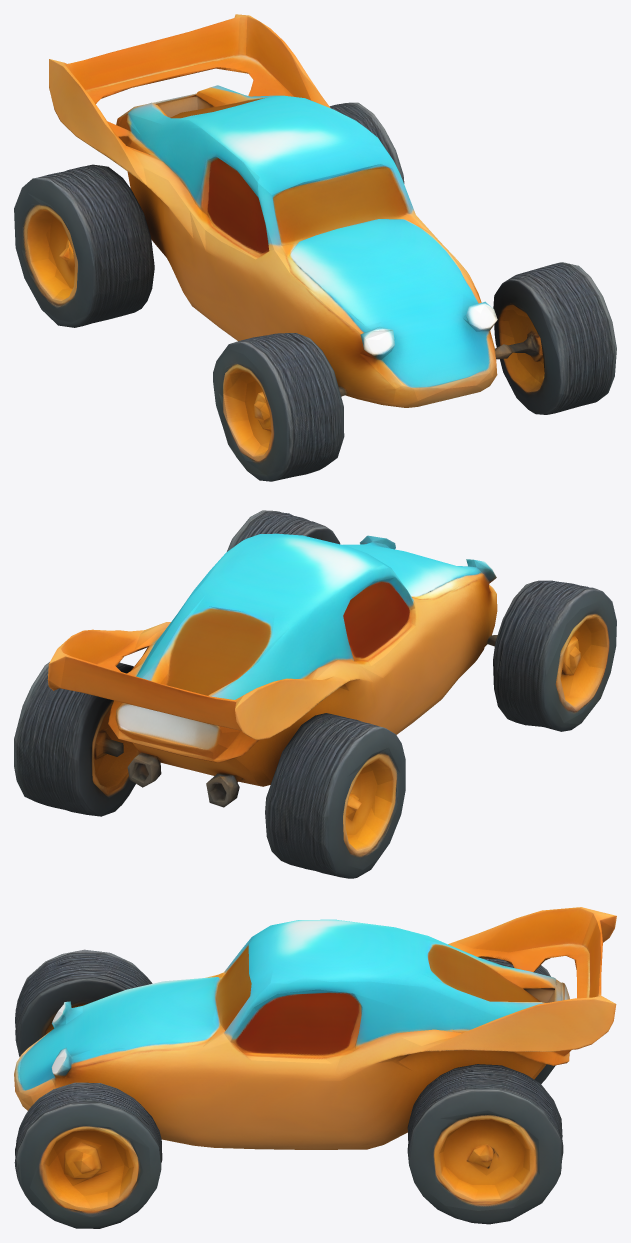
3 renders of one model, top to bottom at view 1: azimuth 30°, elevation 25°; view 2: azimuth 150°, elevation 25°; view 3: azimuth 270°, elevation 25°, orthographic. The views are drawn at different scales.
Parts seen in each view (by area): view 1: model; view 2: model; view 3: model.
Boxes of the visible parts, box(x1,y1,x2,y2) form: model: box(14, 14, 616, 481); model: box(14, 510, 616, 878); model: box(14, 907, 616, 1228).
Size of the model in its own units: 1.18 by 0.7486 by 1.9.
1 material, 1 textured.
